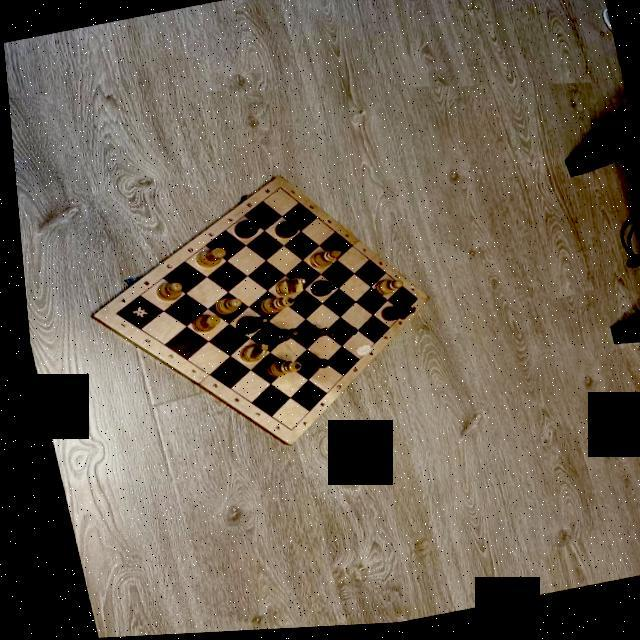chess-table-corners: (106, 310, 114, 318), (278, 428, 288, 434), (409, 300, 414, 304), (274, 188, 278, 192)
